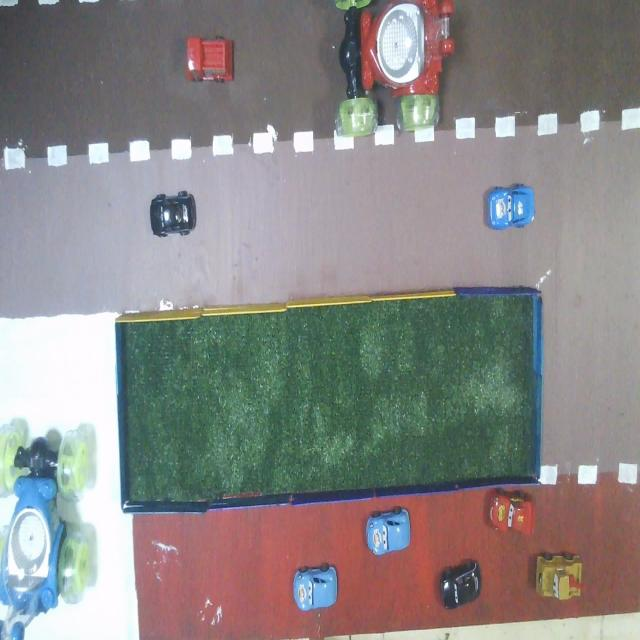driver car f: (0, 424, 92, 639)
small cars: (150, 191, 196, 237), (536, 554, 581, 600), (187, 37, 233, 82), (366, 508, 410, 555), (489, 490, 534, 535), (488, 185, 534, 229), (294, 565, 337, 610), (441, 561, 481, 609)
